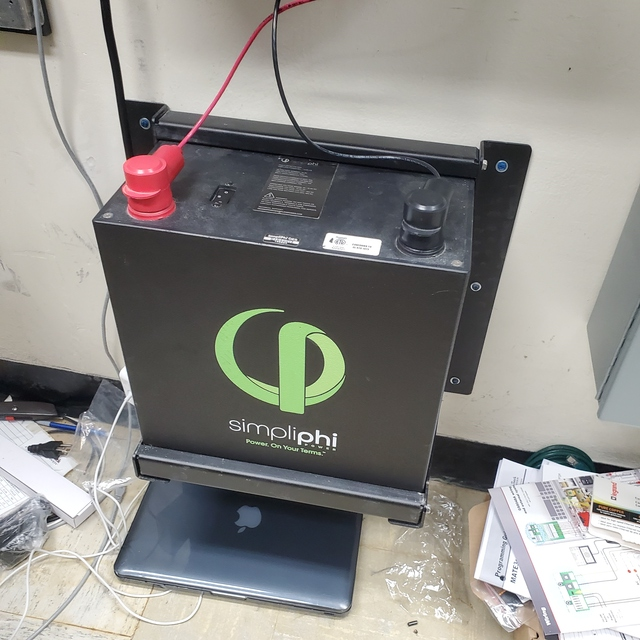battery: (92, 137, 457, 531)
